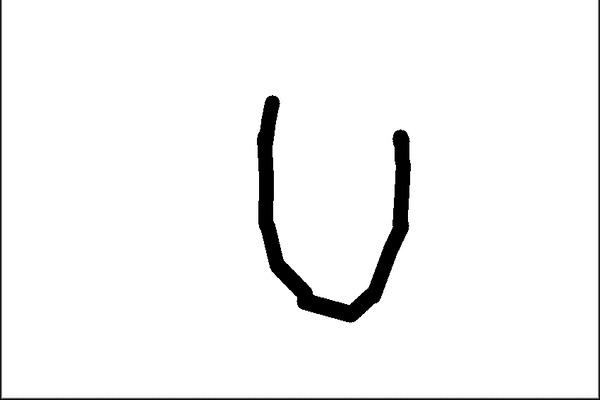U: (244, 90, 417, 326)
